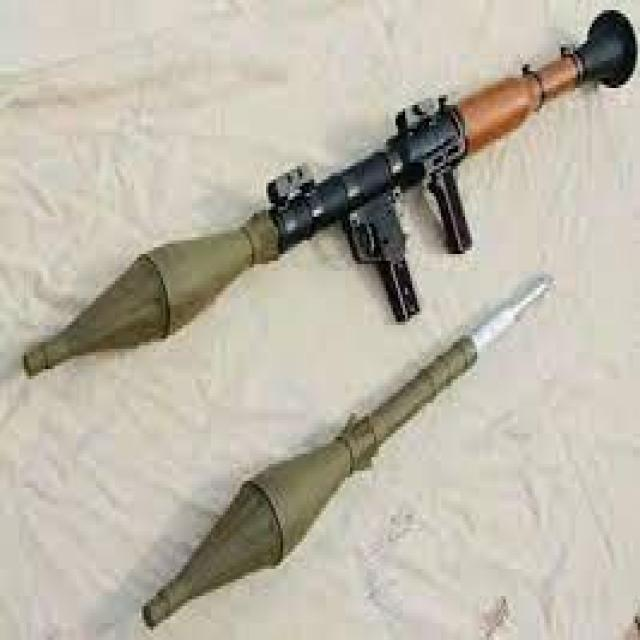bazooka: (10, 1, 640, 377)
